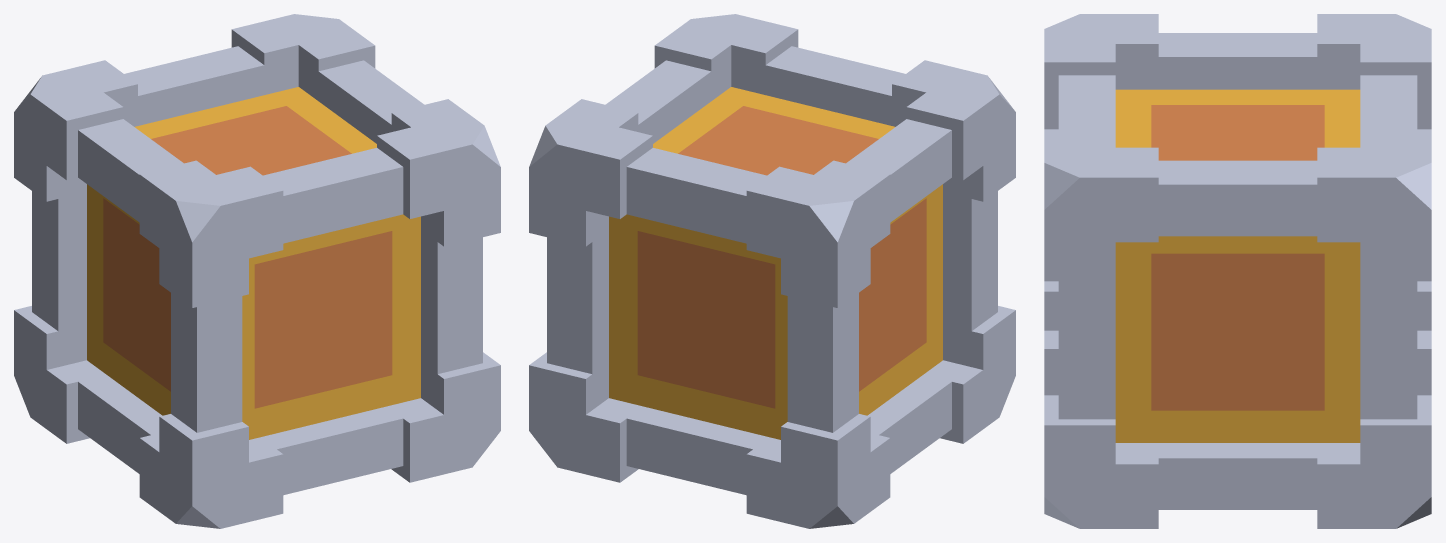
The model's file is crateItemStrong.fbx.
3 views of the same model, side by side, from view 1: azimuth 30°, elevation 25°; view 2: azimuth 150°, elevation 25°; view 3: azimuth 270°, elevation 25° (orthographic). The views are drawn at different scales.
Visible parts, largest first — view 1: crateItemStrong; view 2: crateItemStrong; view 3: crateItemStrong.
Boxes of the visible parts, left/top/right/bottom form: crateItemStrong: left=14, top=14, right=500, bottom=528; crateItemStrong: left=529, top=14, right=1015, bottom=528; crateItemStrong: left=1044, top=14, right=1431, bottom=528.
Size of the model in its own units: 5.4 by 5.4 by 5.4.
